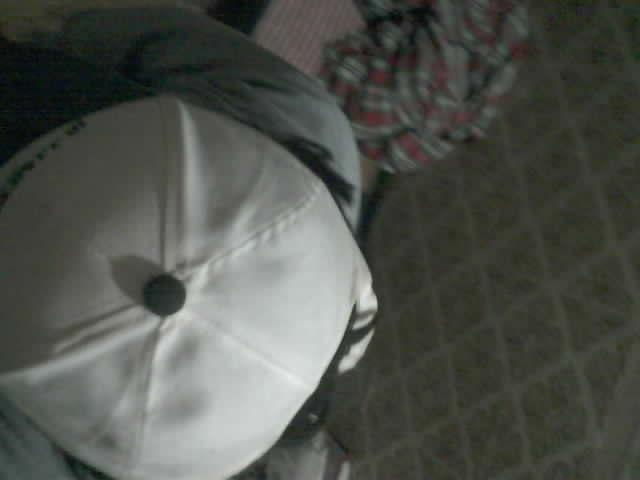cap: (0, 94, 380, 479)
